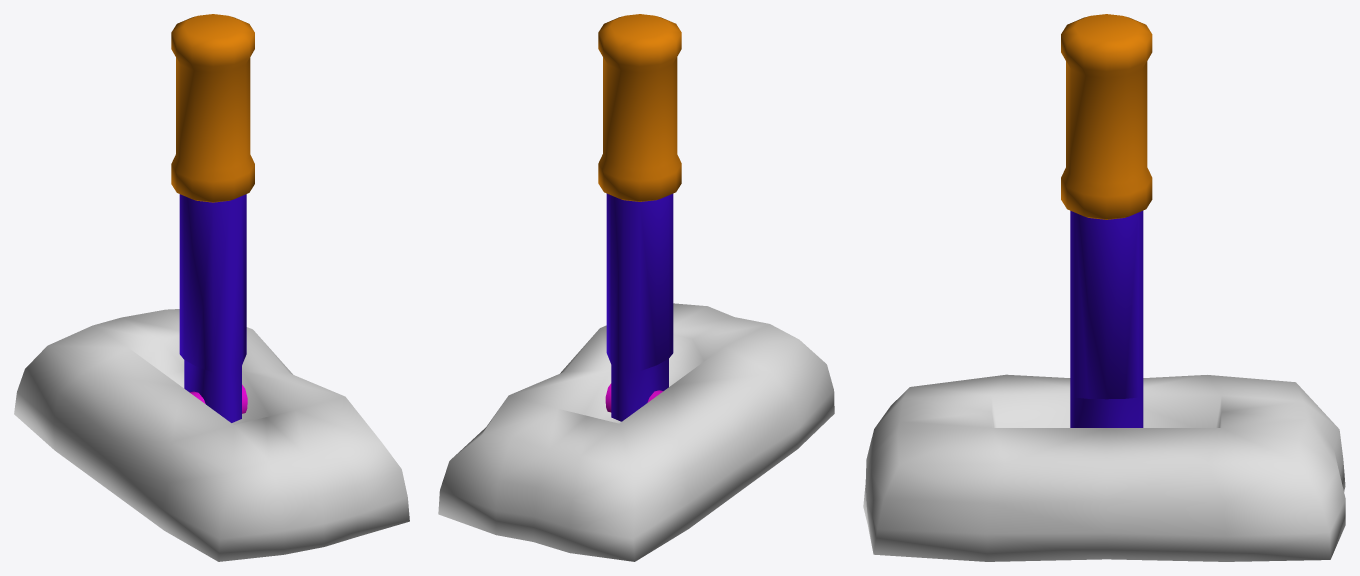
The model's file is Schalter_3_LOWPOLY_3.fbx.
3 views of the same model, side by side, from view 1: azimuth 30°, elevation 25°; view 2: azimuth 150°, elevation 25°; view 3: azimuth 270°, elevation 25° (orthographic). The views are drawn at different scales.
Visible parts, largest first — view 1: Base_low, Lever_low; view 2: Base_low, Lever_low; view 3: Base_low, Lever_low.
Part boxes in pixels (x1,y1,x2,y2): Base_low: (14, 309, 409, 561); Lever_low: (171, 14, 254, 422); Base_low: (438, 303, 834, 561); Lever_low: (598, 14, 681, 421); Base_low: (863, 374, 1345, 561); Lever_low: (1061, 14, 1152, 427).
Size of the model in its own units: 41.13 by 81.86 by 74.69.
